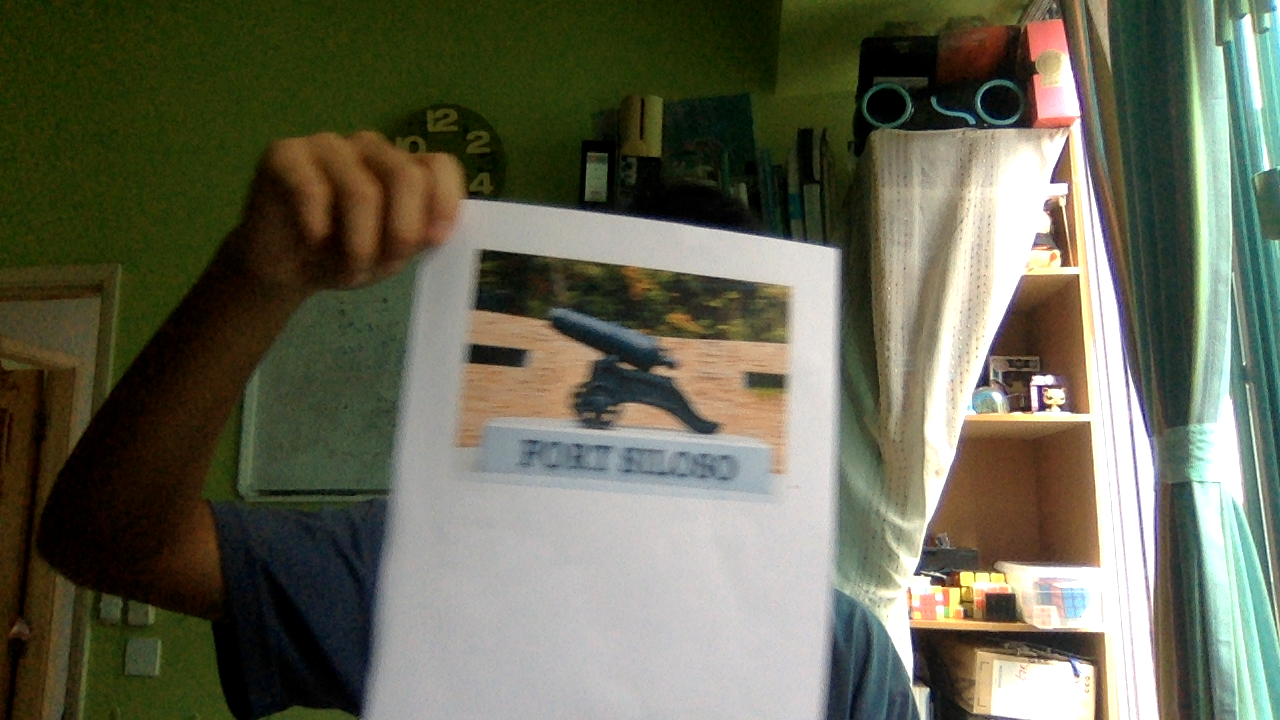siloso: (457, 236, 802, 491)
